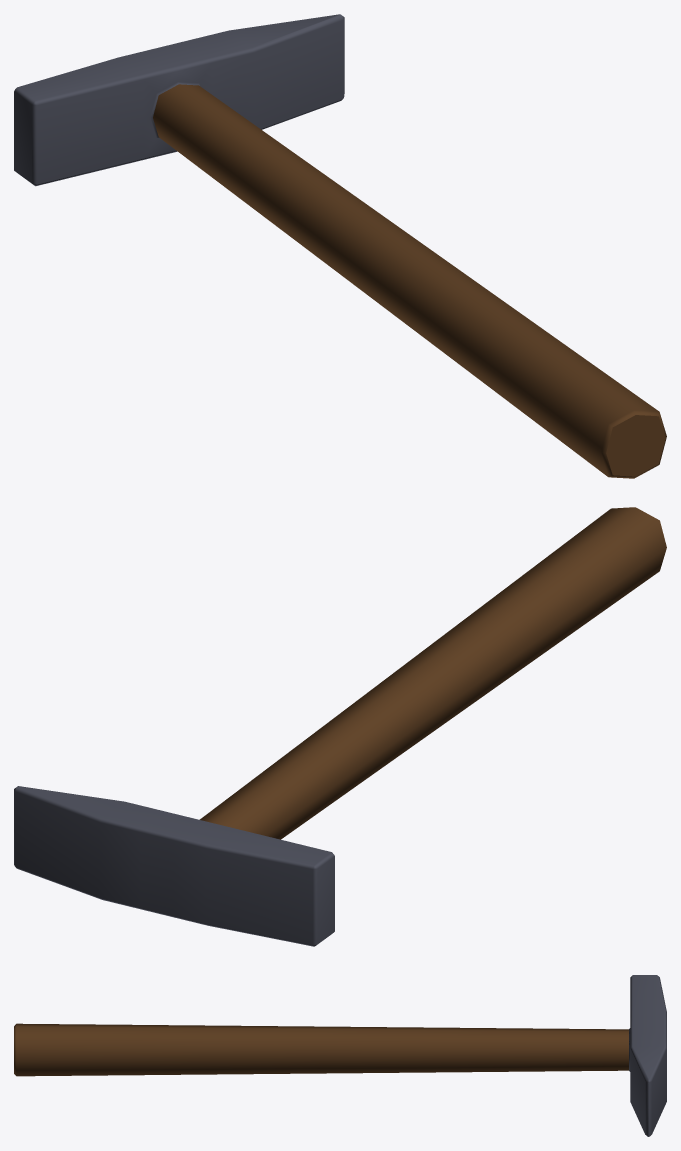
The model's file is hammer01.glb.
3 renders of one model, top to bottom at view 1: azimuth 30°, elevation 25°; view 2: azimuth 150°, elevation 25°; view 3: azimuth 270°, elevation 25°, orthographic. The views are drawn at different scales.
Parts seen in each view (by area): view 1: Hammer01; view 2: Hammer01; view 3: Hammer01.
Boxes of the visible parts, box(x1,y1,x2,y2) form: Hammer01: box(14, 14, 666, 478); Hammer01: box(14, 507, 666, 946); Hammer01: box(14, 975, 666, 1136).
Bounding box in the file's own units: 0.189 × 0.0478 × 0.4905.
